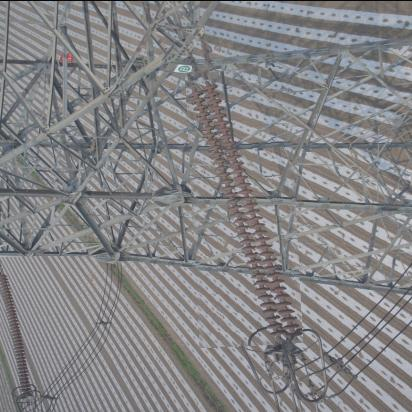insulator: (190, 68, 301, 348)
